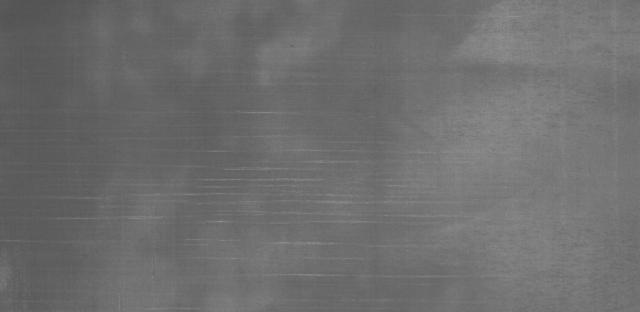waist_folding: (67, 112, 542, 286)
